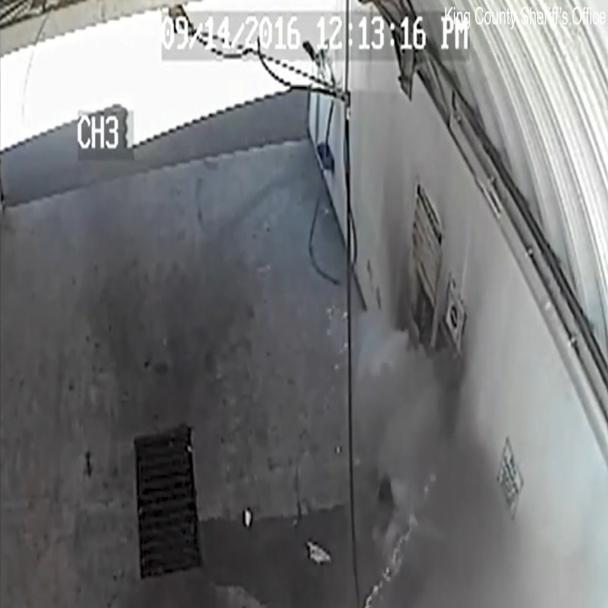smoke: (344, 271, 521, 607)
